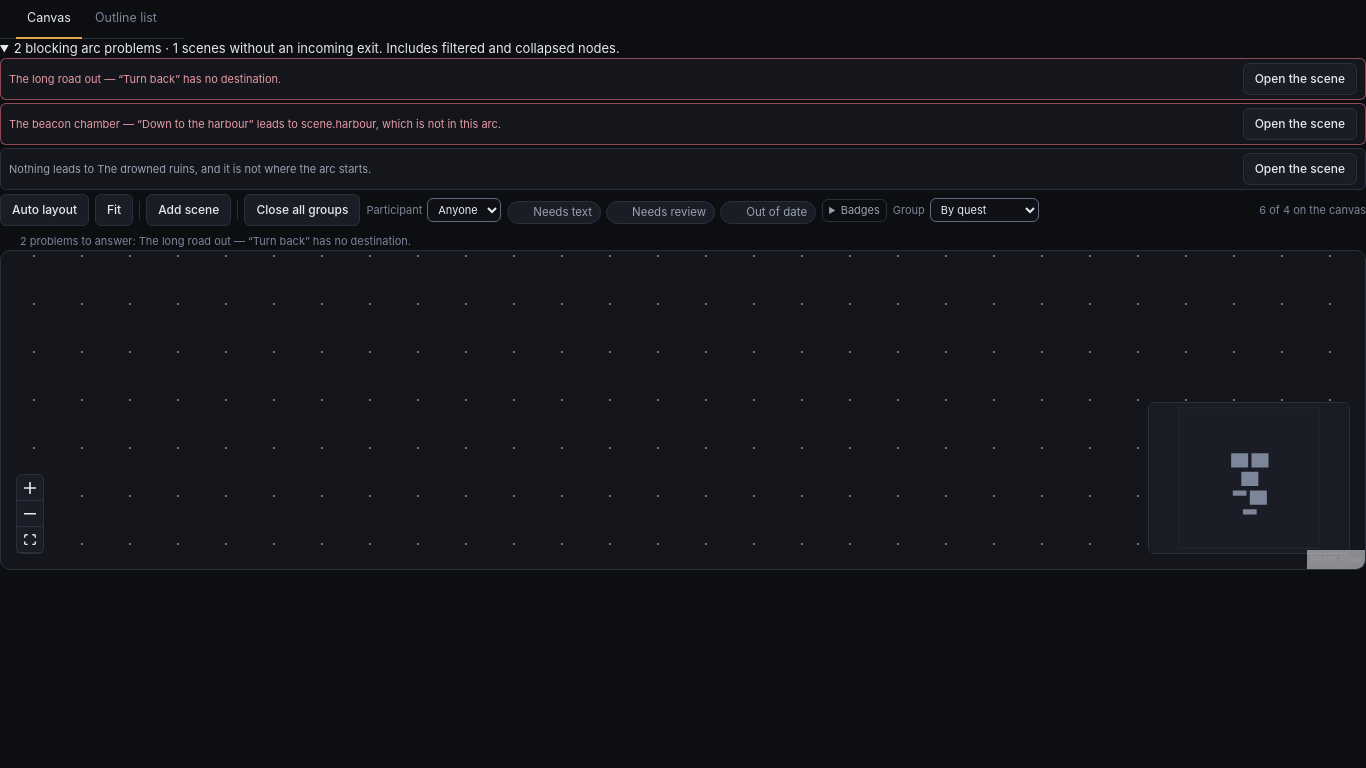
Test: the outline list, as a full alternative to the arc canvas › reads the arc in story order and marks the scene with no way in
Click the button "Outline list": click(126, 19) x1=84 y1=0 x2=168 y2=39
(page scrolled)
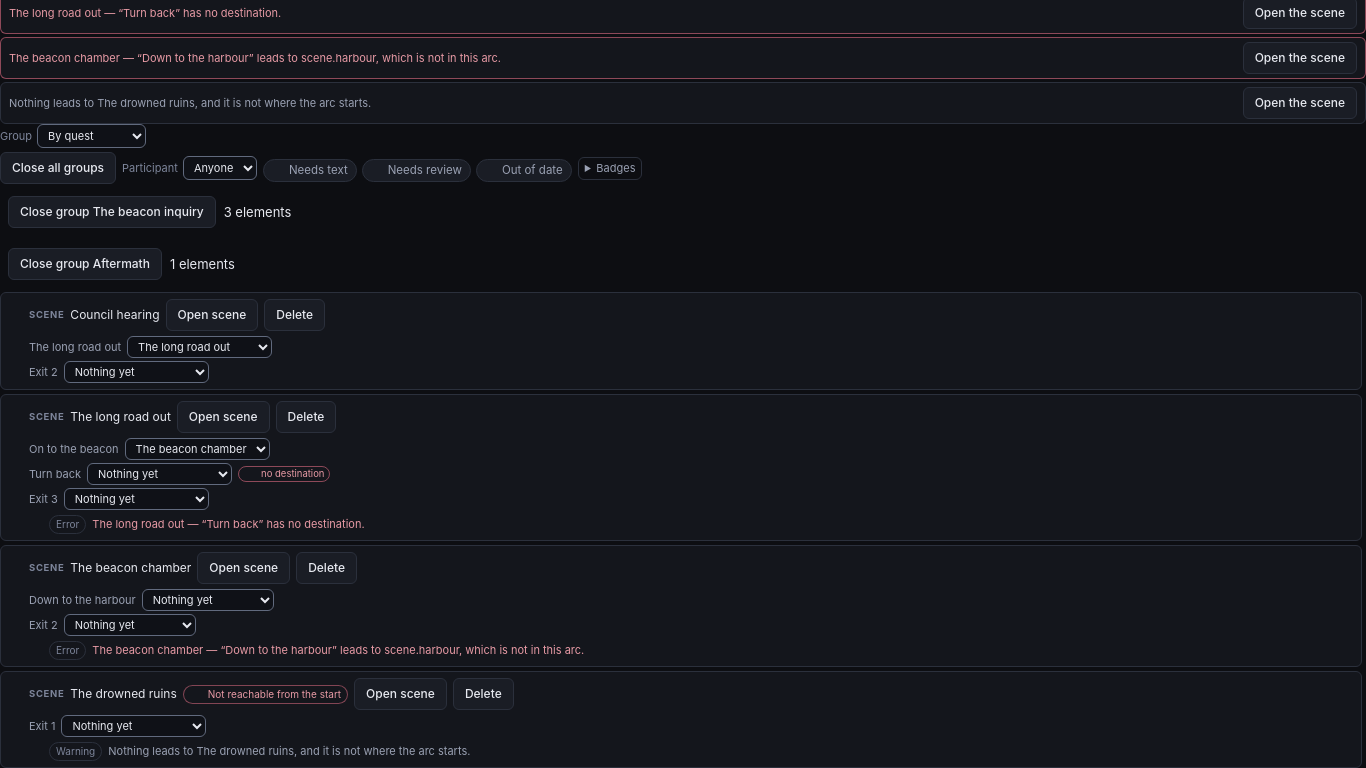
expect the list item with class "nrt-outline-row" shows "Council hearing": met, box x1=9 y1=306 x2=160 y2=324
expect the list item with class "nrt-outline-row" shows "The long road out": met, box x1=9 y1=408 x2=171 y2=426
expect the list item with class "nrt-outline-row" shows "Not reachable from the start": met, box x1=208 y1=688 x2=341 y2=700
